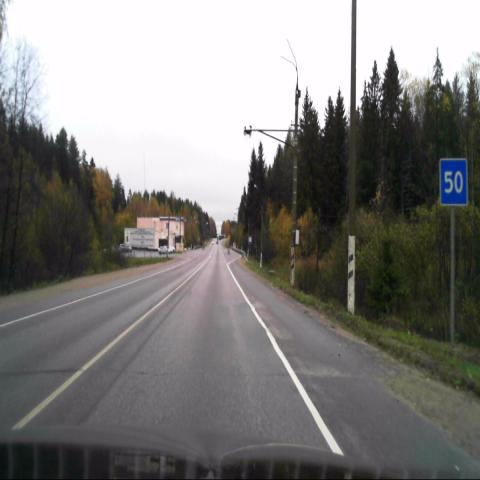6_2: (439, 159, 467, 206)
